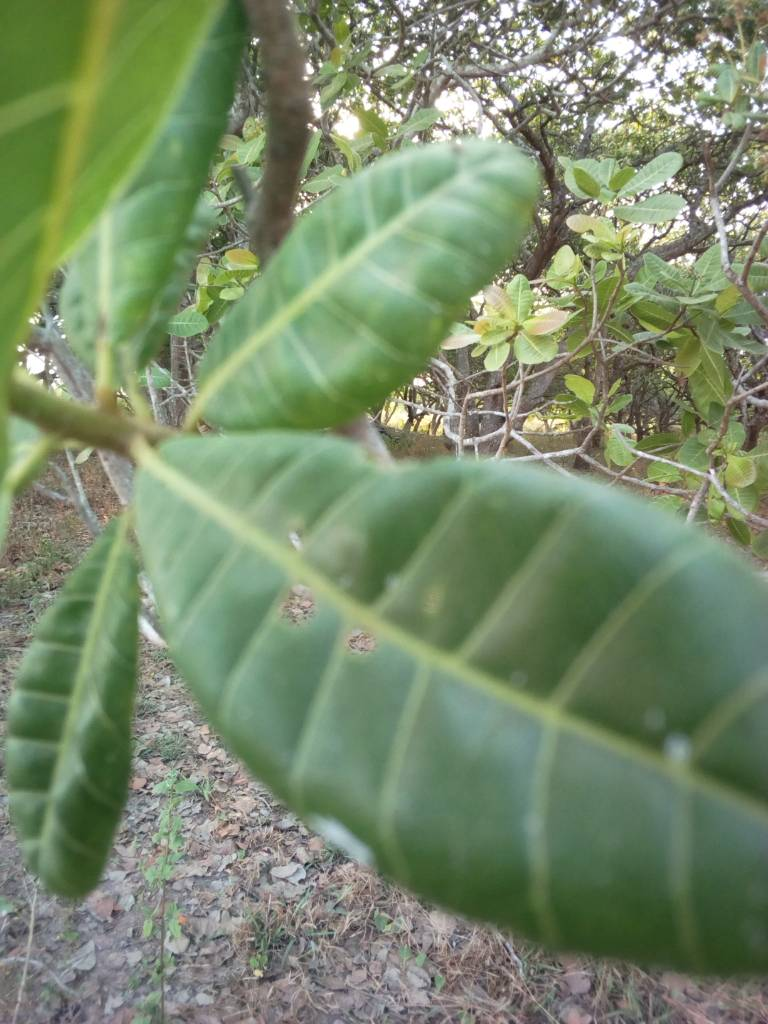Helopeltis anacardii: (211, 136, 538, 411)
